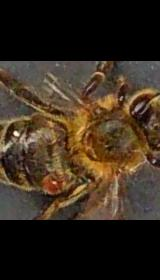varroa_mite: (36, 174, 66, 196)
